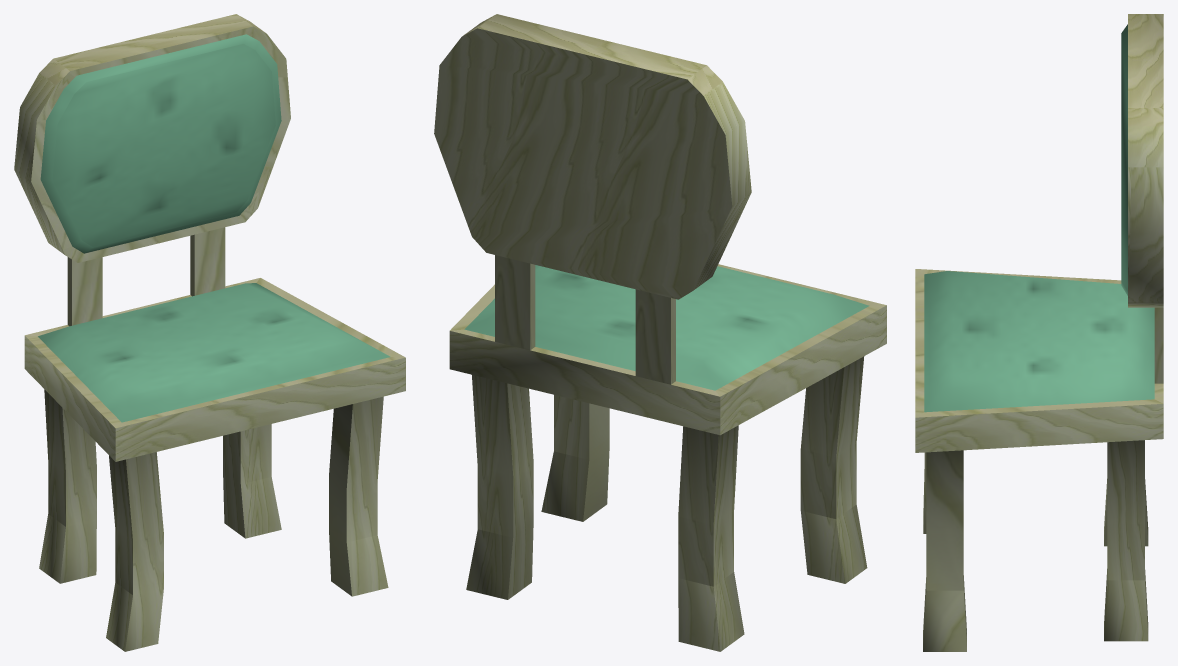
File: chair.glb
3 views of the same model, side by side, from view 1: azimuth 30°, elevation 25°; view 2: azimuth 150°, elevation 25°; view 3: azimuth 270°, elevation 25° (orthographic). The views are drawn at different scales.
Visible parts, largest first — view 1: backrest_cushion, seat_cushion, seat, backrest, o2_2, o2_3, o2, o2_1, struts; view 2: backrest, seat_cushion, seat, o2, o2_1, o2_3, struts, o2_2; view 3: seat_cushion, seat, backrest, o2_1, o2_2, backrest_cushion, struts, o2.
Boxes of the visible parts, x1,y1,x2,y2 form: backrest_cushion: (40, 34, 281, 253); seat_cushion: (38, 283, 390, 422); seat: (24, 278, 405, 461); backrest: (14, 14, 290, 262); o2_2: (329, 396, 388, 596); o2_3: (106, 452, 163, 651); o2: (39, 389, 96, 583); o2_1: (223, 424, 281, 538); struts: (67, 227, 225, 326); backrest: (434, 14, 751, 299); seat_cushion: (464, 265, 869, 390); seat: (449, 264, 886, 435); o2: (678, 425, 744, 651); o2_1: (466, 375, 533, 599); o2_3: (800, 356, 867, 583); struts: (495, 255, 675, 384); o2_2: (541, 395, 609, 521); seat_cushion: (924, 271, 1154, 412); seat: (915, 269, 1163, 452); backrest: (1128, 14, 1163, 307); o2_1: (1104, 440, 1148, 641); o2_2: (923, 450, 966, 651); backrest_cushion: (1121, 24, 1127, 295); struts: (1154, 307, 1163, 383); o2: (1104, 479, 1148, 546).
Size of the model in its own units: 1.88 by 3.09 by 1.32.
2 materials, 2 textured.
